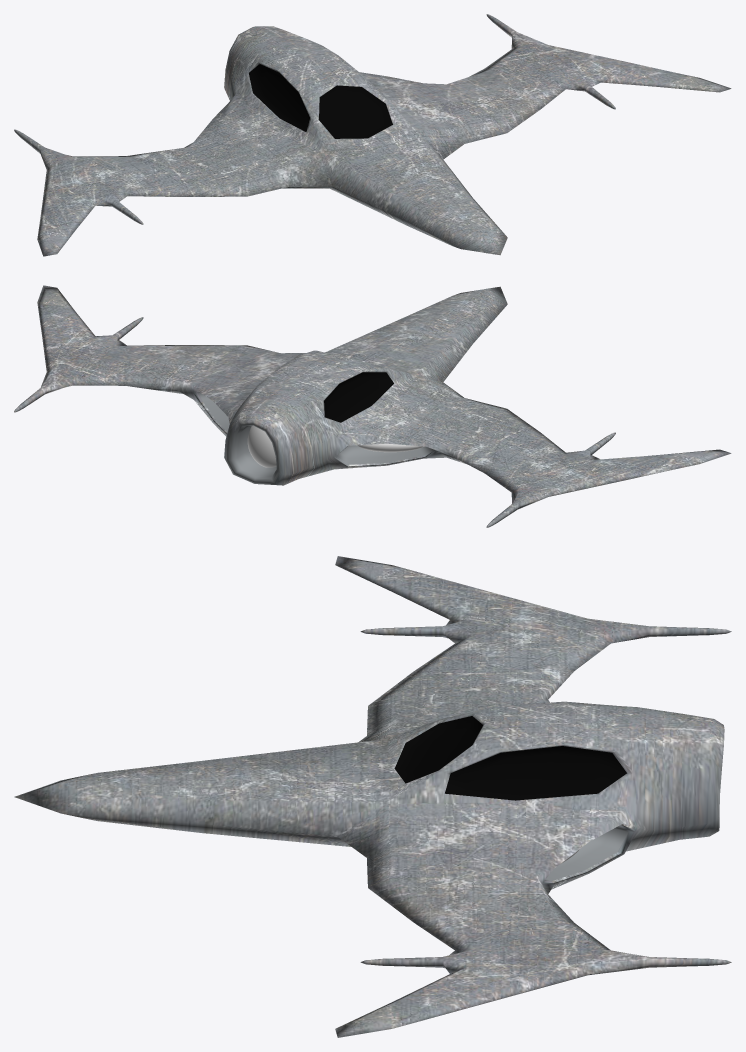
File: PlayerShipV1.fbx
The picture shows the model from 3 angles, top to bottom: view 1: azimuth 30°, elevation 25°; view 2: azimuth 150°, elevation 25°; view 3: azimuth 270°, elevation 25°; orthographic projection. The views are drawn at different scales.
Visible parts, largest first — view 1: pCube1; view 2: pCube1, pSphere1, pSphere3; view 3: pCube1.
Part boxes in pixels (bbox=[...]): pCube1: bbox=[14, 14, 731, 256]; pCube1: bbox=[14, 285, 731, 527]; pSphere1: bbox=[247, 425, 276, 467]; pSphere3: bbox=[358, 443, 423, 452]; pCube1: bbox=[14, 556, 731, 1037].
Bounding box in the file's own units: 33.7 × 3.41 × 21.22.
Materials: 3 (1 with a texture image).
